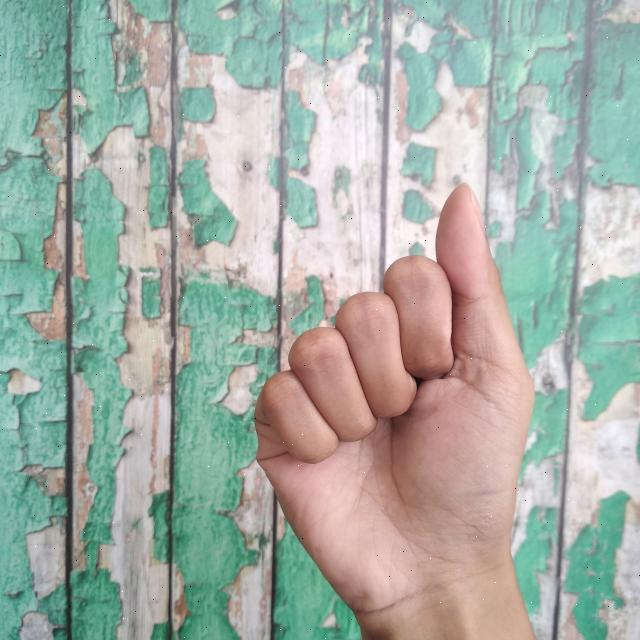A: (243, 174, 543, 640)
